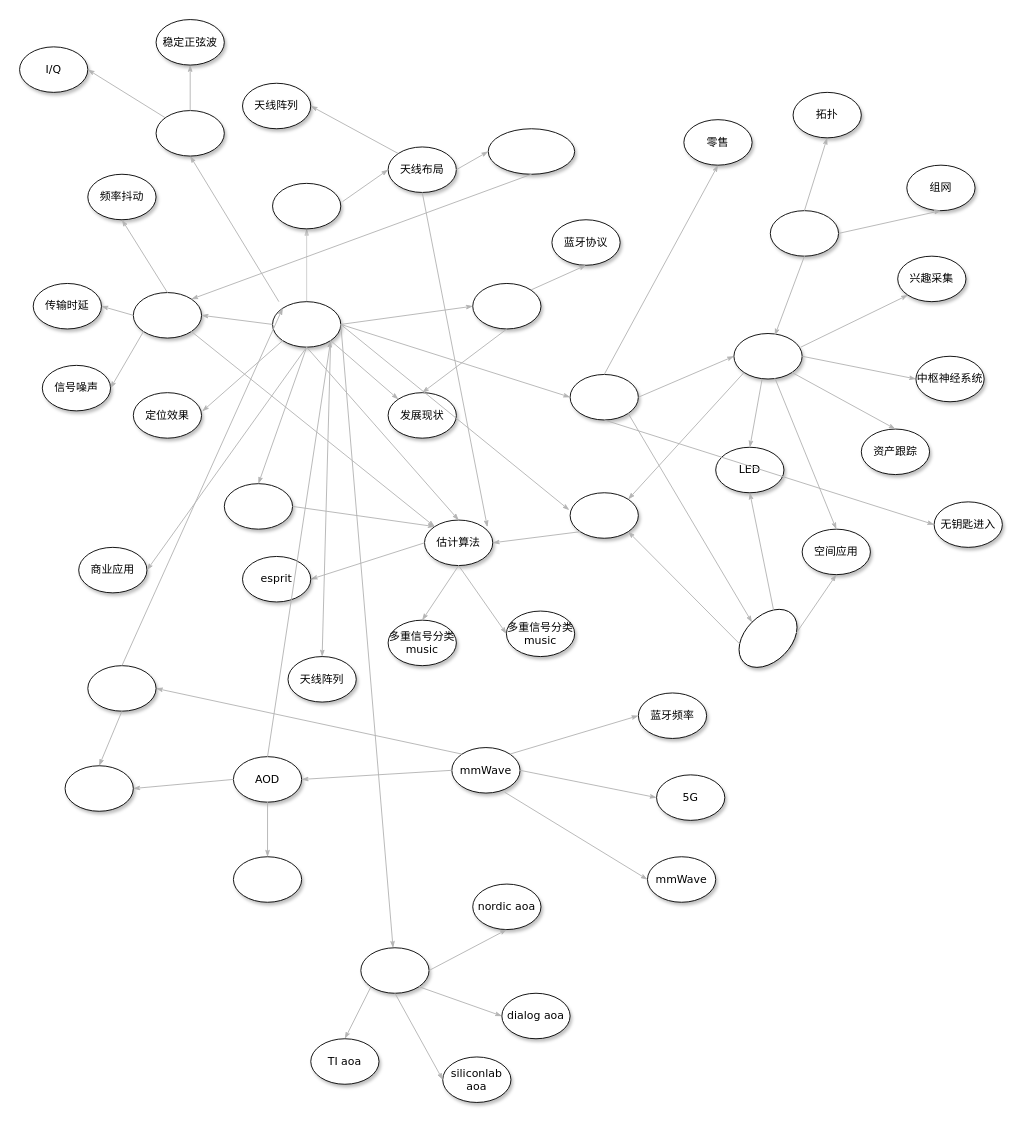
The diagram is 1024 pixels wide and 1125 high, and some of its shapes have lost their labels. The shapes that lost their labels are listed below. From the top down, each one's centre as x and y in pixels, then its label:
the point at 191,134: CTE
the point at 532,152: ULA|URA|UCA
the point at 307,207: 硬件
the point at 805,234: MESH
the point at 168,316: 干扰
the point at 307,325: AOA|AOD
the point at 507,307: 蓝牙5.0技术蓝本
the point at 768,357: 照明及平台
the point at 605,398: 应用场景
the point at 259,507: 同相和正交IQ
the point at 605,516: 寻向定位
the point at 768,639: 博物馆
the point at 122,689: AOA
the point at 100,789: receivor
the point at 268,880: transmitor
the point at 395,971: 硬件厂商
